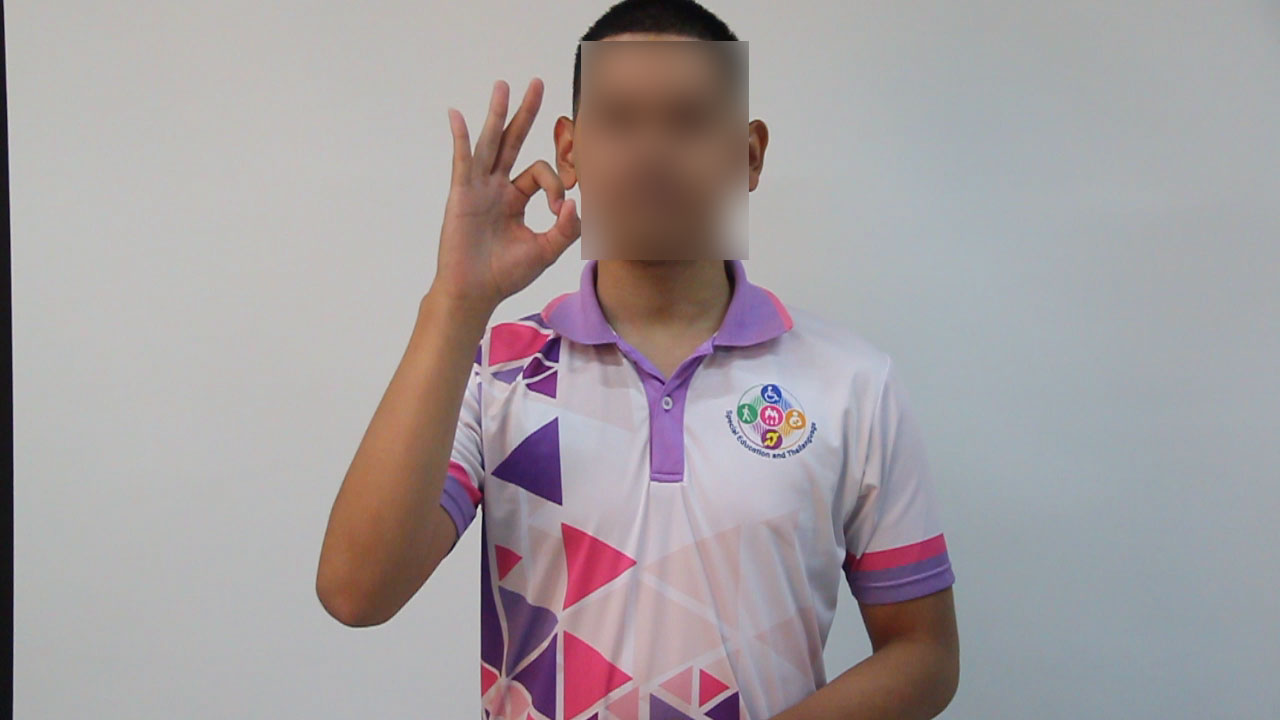for: (403, 65, 595, 318)
